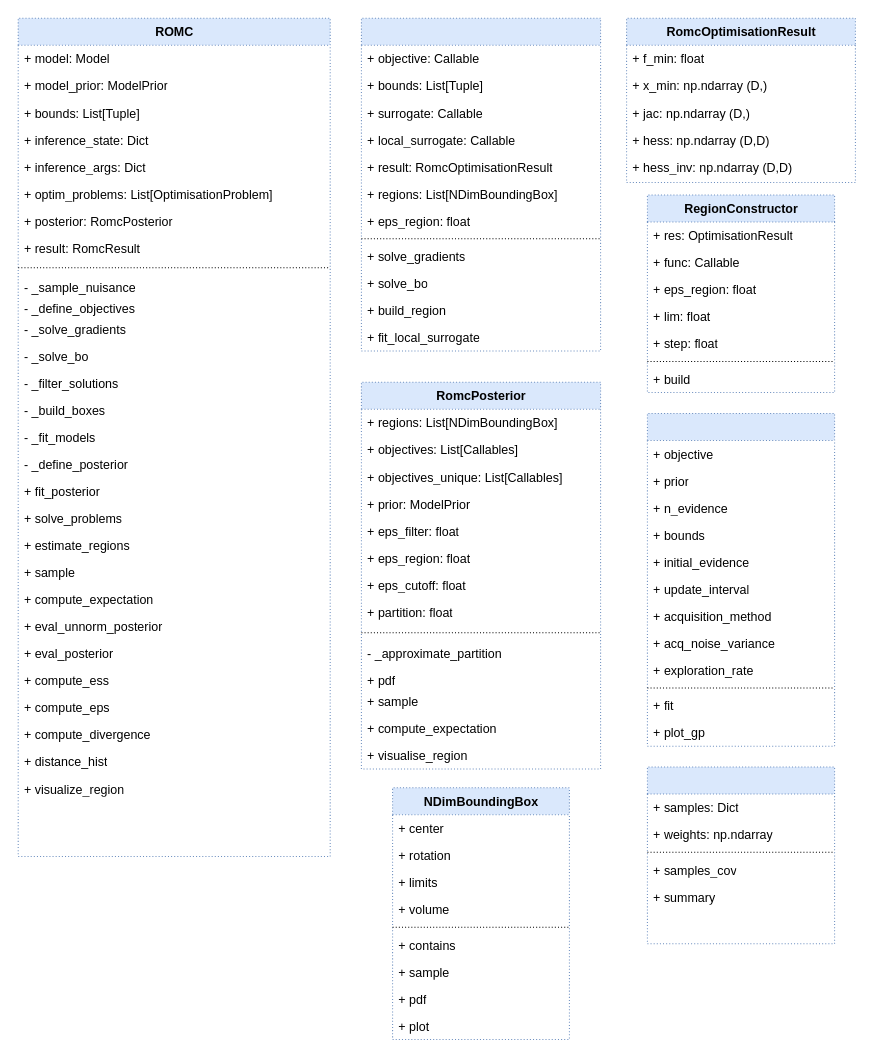
This 874x1061 diagram has some shape labels left out. Here are the shapes that lost their labels. From the top down, the box of each, then its label:
(360, 17, 601, 351): OptimisationProblem
(646, 412, 835, 746): BoDeterministic
(646, 766, 835, 944): RomcResult
